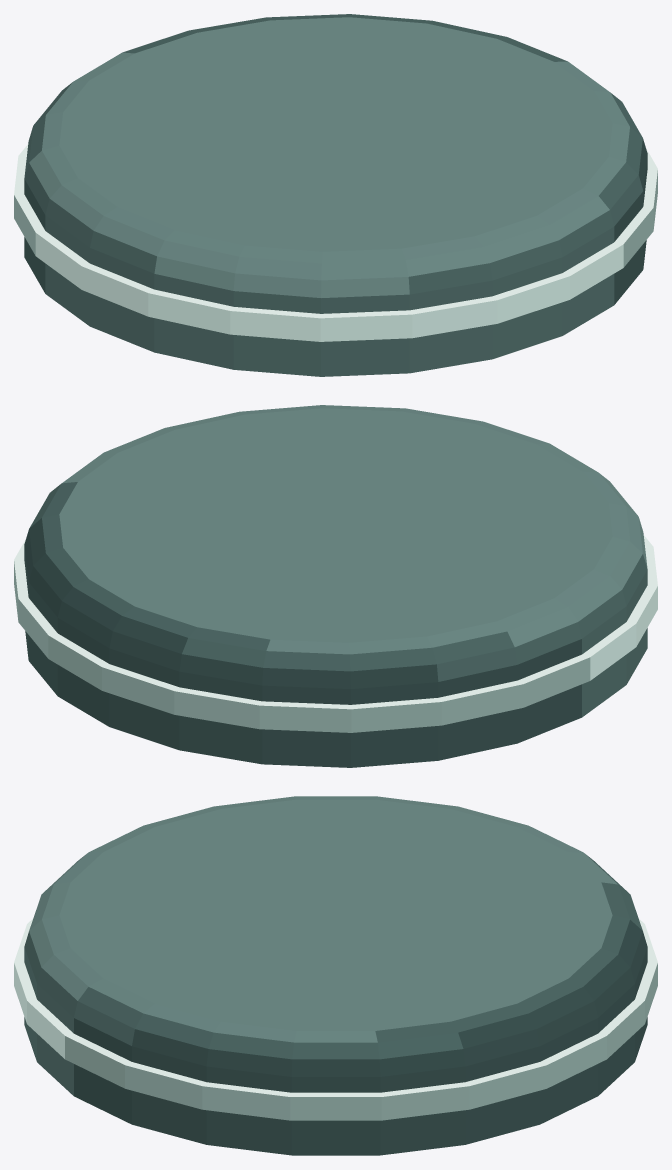
File: Button_ResetBase.gltf
3 views of the same model, one above another, from view 1: azimuth 30°, elevation 25°; view 2: azimuth 150°, elevation 25°; view 3: azimuth 270°, elevation 25° (orthographic).
Parts seen in each view (by area): view 1: Button_ResetBase_baked; view 2: Button_ResetBase_baked; view 3: Button_ResetBase_baked.
Part boxes in pixels (x1,y1,x2,y2): Button_ResetBase_baked: (14, 14, 657, 376); Button_ResetBase_baked: (14, 405, 657, 767); Button_ResetBase_baked: (14, 796, 657, 1155).
Bounding box in the file's own units: 0.7364 × 0.14 × 0.744.
